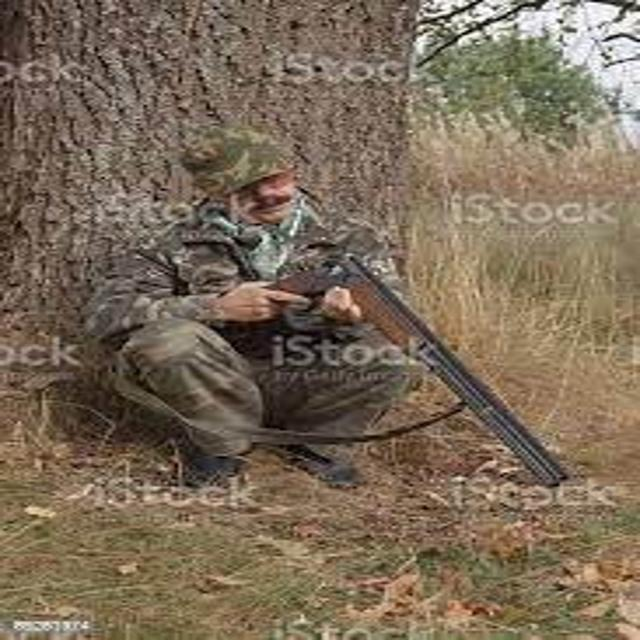gun: (190, 222, 601, 515)
poacher: (65, 106, 486, 532)
